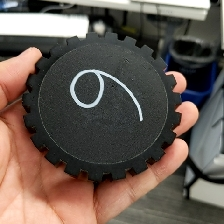gear: (20, 30, 183, 183)
